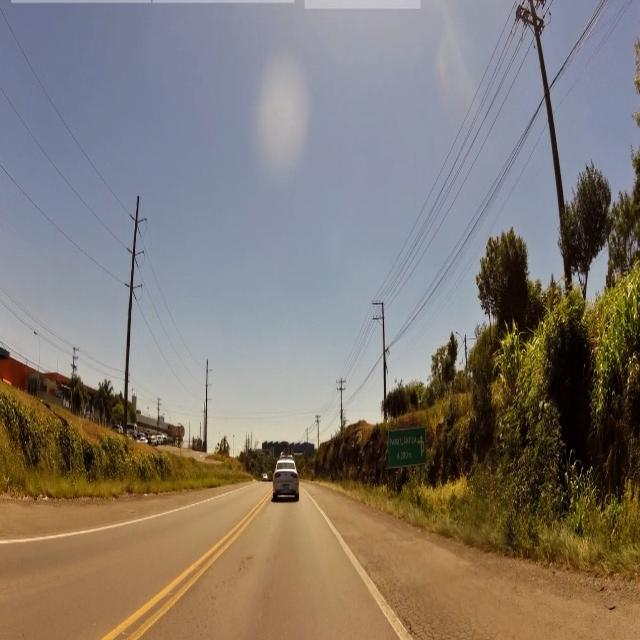I-4: (386, 426, 427, 466)
